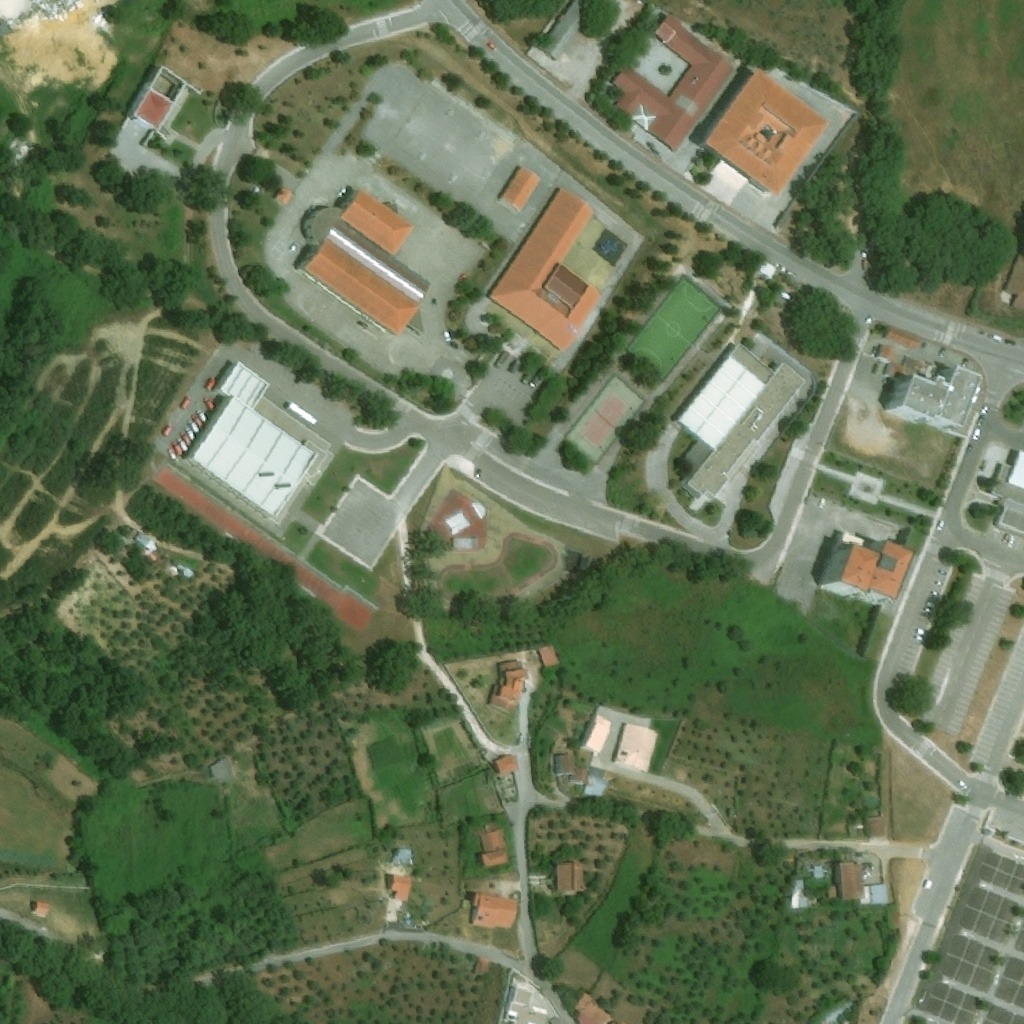0 no-damage: (181, 361, 323, 528), (675, 341, 807, 497), (486, 187, 602, 354), (610, 14, 735, 152), (704, 68, 830, 196), (301, 228, 425, 339), (817, 532, 915, 608), (882, 366, 984, 434), (340, 189, 415, 256), (538, 0, 598, 62), (551, 751, 609, 797), (987, 956, 1023, 1023), (615, 723, 660, 773), (486, 661, 527, 715), (985, 448, 1023, 506), (498, 166, 541, 213), (469, 892, 517, 930), (504, 985, 551, 1023), (136, 89, 175, 131), (827, 862, 865, 900), (479, 823, 508, 869), (574, 990, 614, 1023), (582, 715, 611, 754), (925, 555, 956, 590), (1003, 256, 1023, 310), (554, 861, 584, 894), (938, 1002, 981, 1023), (884, 330, 921, 350), (998, 507, 1023, 535), (493, 753, 519, 777), (537, 644, 559, 672), (137, 530, 158, 559), (206, 757, 231, 780), (864, 884, 888, 906), (388, 874, 413, 895), (984, 526, 1010, 546), (960, 517, 986, 536), (272, 187, 293, 207), (392, 850, 414, 868), (875, 344, 896, 361), (31, 902, 50, 916)
